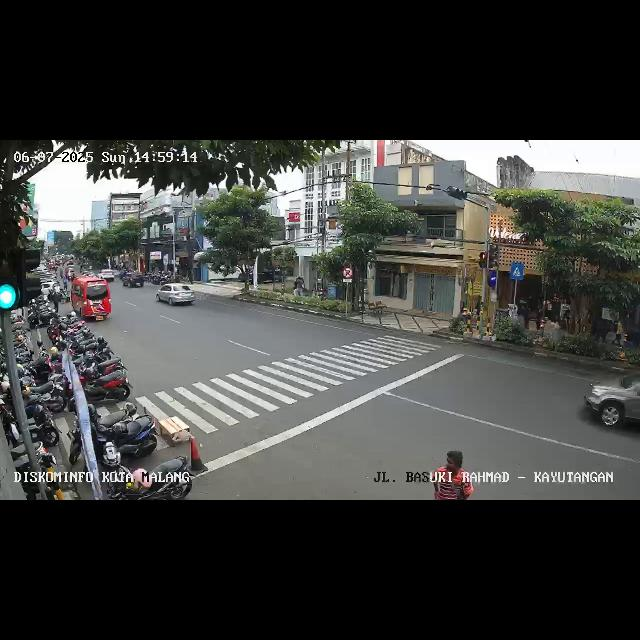car: (582, 374, 640, 436), (70, 278, 111, 322), (156, 282, 197, 310), (124, 272, 146, 288)
person: (428, 442, 474, 500)
